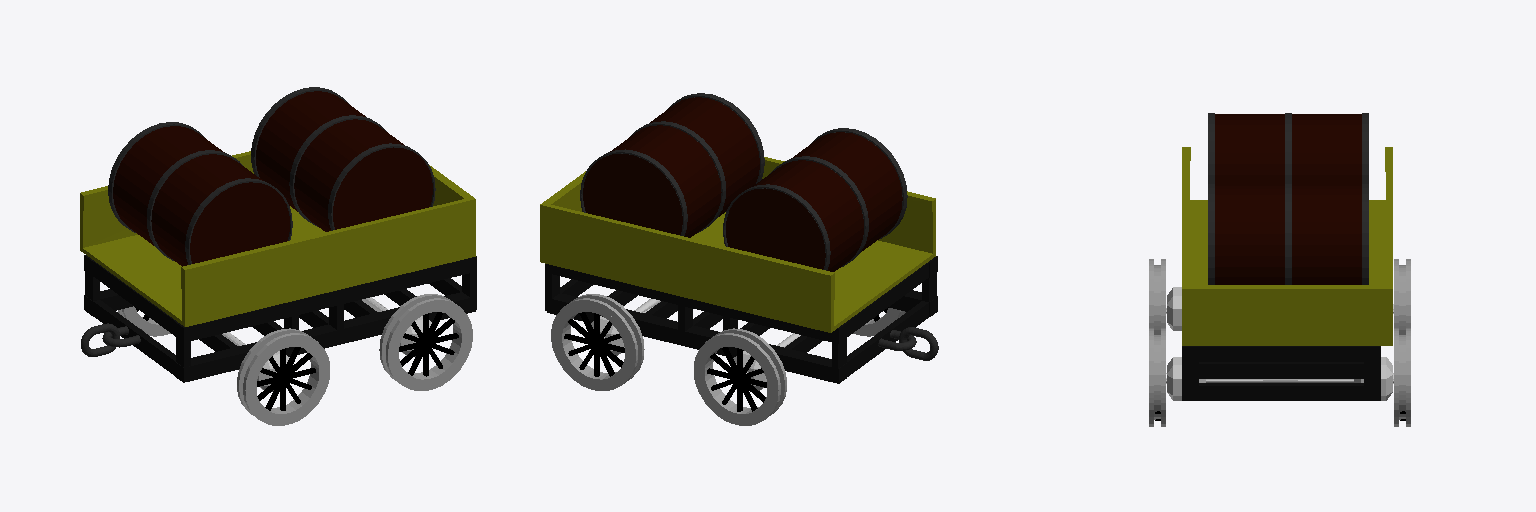
The model's file is chariot.obj.
3 renders of one model, left to right at view 1: azimuth 30°, elevation 25°; view 2: azimuth 150°, elevation 25°; view 3: azimuth 270°, elevation 25°, orthographic.
Visible parts, largest first — view 1: Plancher_chariot_Plane.001, Chassis_Chariot_Cube.010, Baril_2_Cylinder.016, Baril_Cylinder.015, Roue_AV_gauche.001_Mesh.013, Roue_AR_gauche.001_Mesh.011, rayon4.006_Cylinder.019, rayon5.005_Cylinder.022, anneau_baril_1.001_Cylinder.009, anneau_baril_1_Cylinder.008, anneau_baril_2_Cylinder.010, anneau_baril_3.001_Cylinder.013 (+4 smaller); view 2: Plancher_chariot_Plane.001, Baril_2_Cylinder.016, Baril_Cylinder.015, Chassis_Chariot_Cube.010, Roue_AV_droite.001_Mesh.012, Roue_AR_droite.001_Mesh.010, rayon4.007_Cylinder.020, rayon5.004_Cylinder.021, anneau_baril_3_Cylinder.012, anneau_baril_3.001_Cylinder.013, anneau_baril_2.001_Cylinder.011, anneau_baril_1.001_Cylinder.009 (+4 smaller); view 3: Plancher_chariot_Plane.001, Baril_Cylinder.015, Chassis_Chariot_Cube.010, Baril_2_Cylinder.016, Roue_AR_droite.001_Mesh.010, Roue_AR_gauche.001_Mesh.011, Roue_AV_droite.001_Mesh.012, Roue_AV_gauche.001_Mesh.013, anneau_baril_1_Cylinder.008, anneau_baril_2_Cylinder.010, anneau_baril_3_Cylinder.012, Cube.007_Cube.014 (+2 smaller).
Boxes of the visible parts, x1,y1,x2,y2 form: Plancher_chariot_Plane.001: [80, 151, 475, 326]; Chassis_Chariot_Cube.010: [84, 255, 476, 382]; Baril_2_Cylinder.016: [113, 126, 289, 266]; Baril_Cylinder.015: [256, 91, 432, 231]; Roue_AV_gauche.001_Mesh.013: [237, 328, 329, 425]; Roue_AR_gauche.001_Mesh.011: [379, 294, 472, 390]; rayon4.006_Cylinder.019: [399, 312, 458, 376]; rayon5.005_Cylinder.022: [257, 347, 315, 410]; anneau_baril_1.001_Cylinder.009: [185, 178, 292, 264]; anneau_baril_1_Cylinder.008: [328, 143, 435, 230]; anneau_baril_2_Cylinder.010: [289, 115, 386, 226]; anneau_baril_3.001_Cylinder.013: [108, 122, 204, 232]; Plancher_chariot_Plane.001: [540, 157, 935, 332]; Baril_2_Cylinder.016: [726, 132, 902, 271]; Baril_Cylinder.015: [583, 97, 759, 237]; Chassis_Chariot_Cube.010: [545, 256, 937, 383]; Roue_AV_droite.001_Mesh.012: [694, 328, 786, 425]; Roue_AR_droite.001_Mesh.010: [551, 294, 644, 390]; rayon4.007_Cylinder.020: [564, 312, 624, 376]; rayon5.004_Cylinder.021: [707, 347, 766, 411]; anneau_baril_3_Cylinder.012: [580, 149, 687, 235]; anneau_baril_3.001_Cylinder.013: [723, 184, 830, 270]; anneau_baril_2.001_Cylinder.011: [770, 156, 868, 266]; anneau_baril_1.001_Cylinder.009: [811, 128, 907, 238]; Plancher_chariot_Plane.001: [1182, 147, 1392, 345]; Baril_Cylinder.015: [1215, 184, 1361, 284]; Chassis_Chariot_Cube.010: [1182, 346, 1380, 400]; Baril_2_Cylinder.016: [1215, 114, 1361, 183]; Roue_AR_droite.001_Mesh.010: [1394, 328, 1410, 426]; Roue_AR_gauche.001_Mesh.011: [1149, 328, 1165, 426]; Roue_AV_droite.001_Mesh.012: [1394, 259, 1410, 334]; Roue_AV_gauche.001_Mesh.013: [1149, 259, 1165, 334]; anneau_baril_1_Cylinder.008: [1208, 182, 1214, 284]; anneau_baril_2_Cylinder.010: [1285, 182, 1291, 284]; anneau_baril_3_Cylinder.012: [1362, 182, 1368, 284]; Cube.007_Cube.014: [1167, 357, 1205, 400].
Bounding box in the file's own units: 2.4 × 1.5 × 1.58.